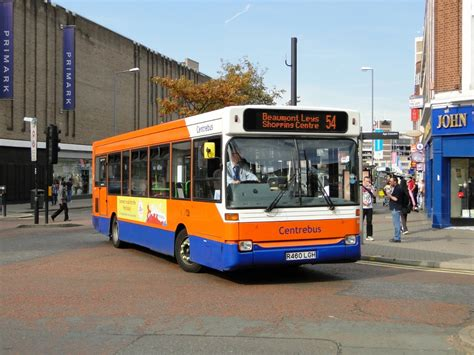bus: (91, 107, 361, 273)
